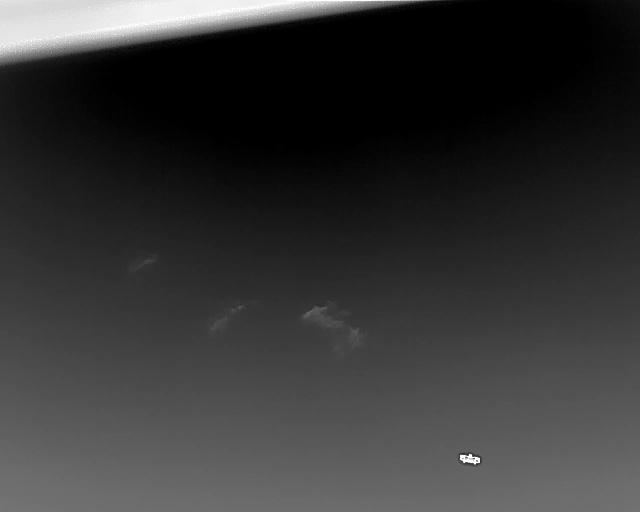fpv-drone: (458, 453, 481, 466)
